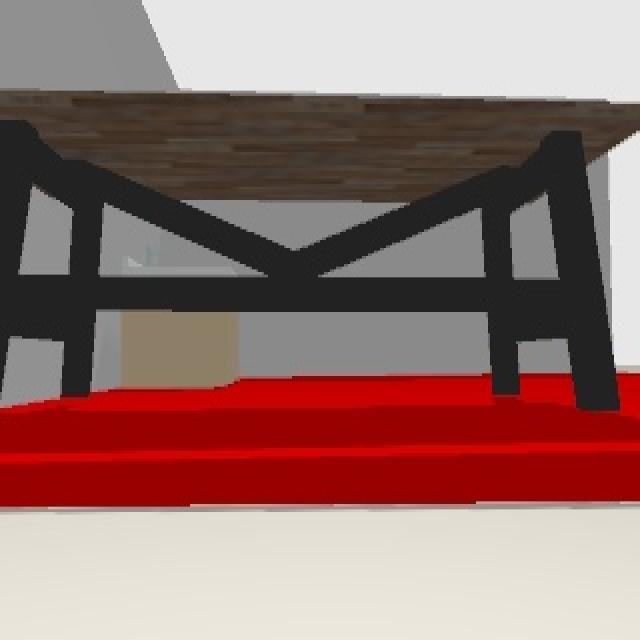dining: (2, 89, 640, 413)
